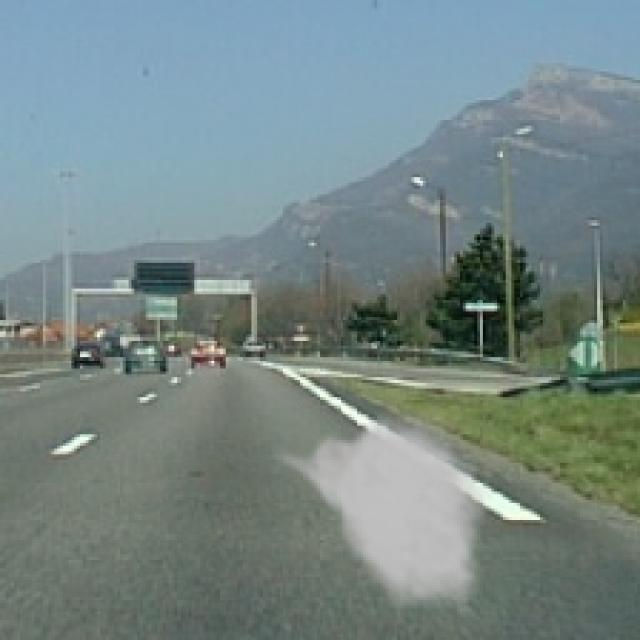Smoke: (268, 408, 492, 620)
